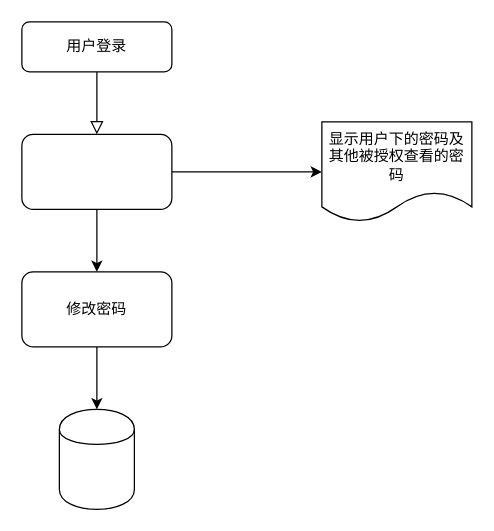
The diagram is 494 pixels wide and 531 high, and some of its shapes have lost their labels. Here are the shapes that lost their labels. From the top down, the centre of each, then its label:
At point (96, 171): "读取用户密码文件及授权文件".
At point (96, 458): "保存到gaia".
